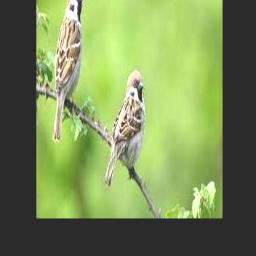Sparrow: (105, 69, 145, 187), (52, 0, 84, 142)
